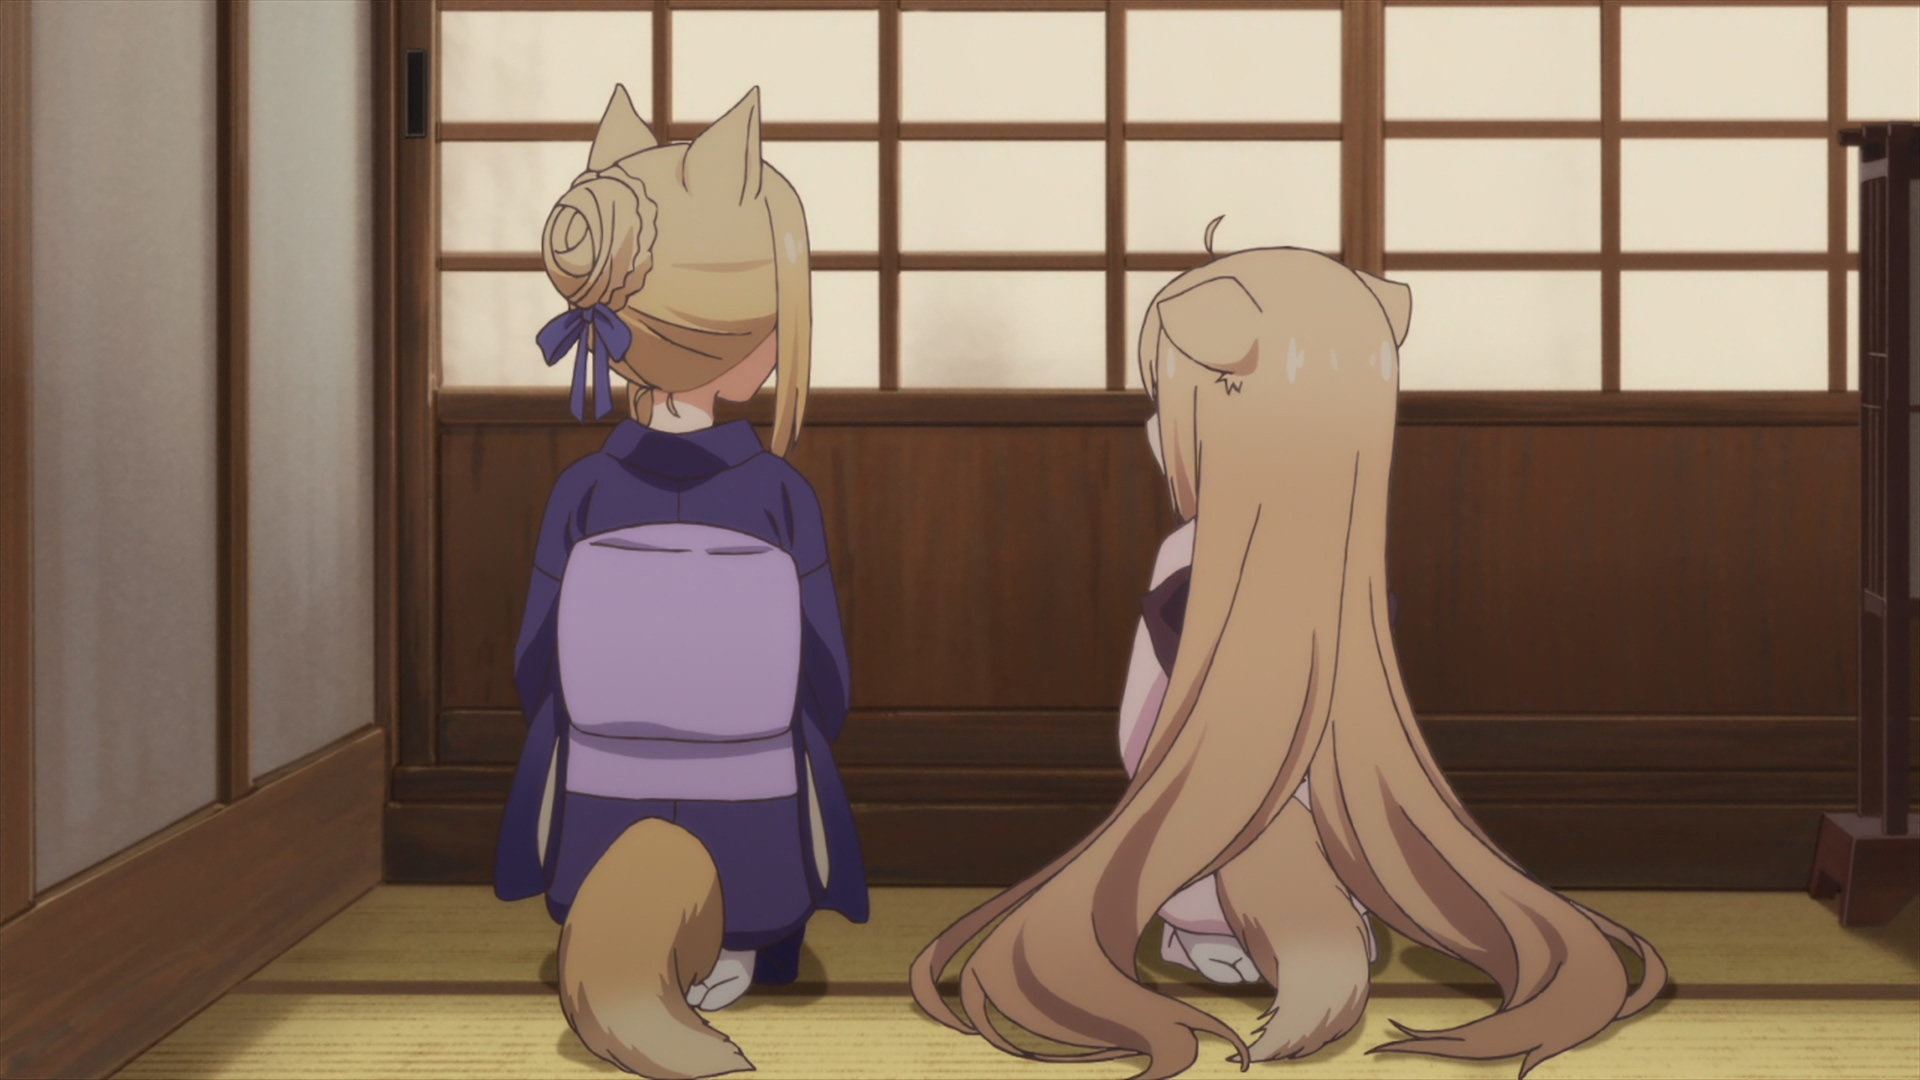柚: (910, 219, 1668, 1080)
桐: (492, 84, 868, 1080)
